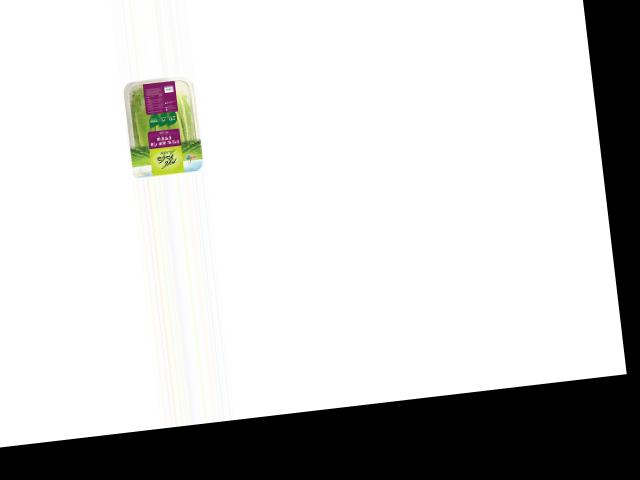lettuce: (122, 73, 204, 171)
